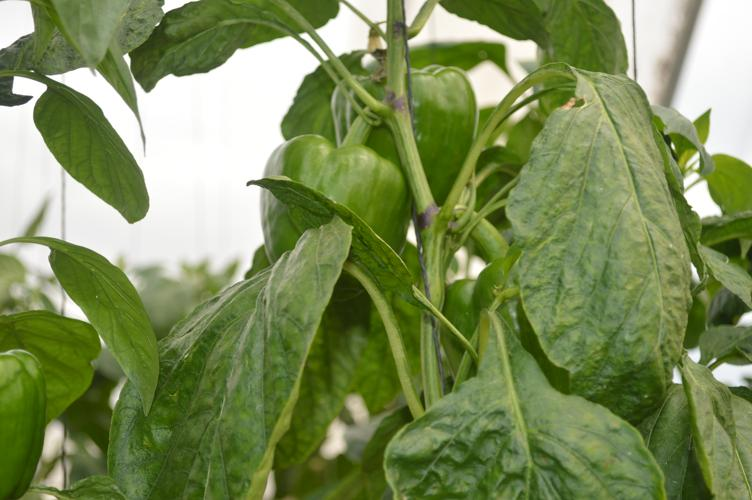BellPepper: (338, 65, 475, 204), (260, 137, 405, 258)
